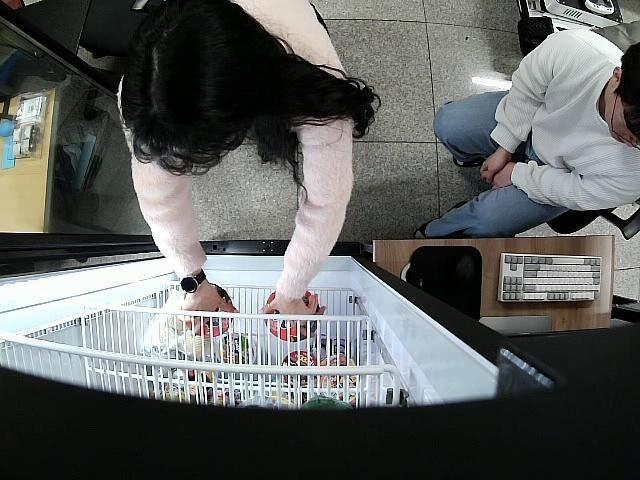01_ShinRamen_L: (264, 292, 321, 341), (186, 281, 234, 339)
